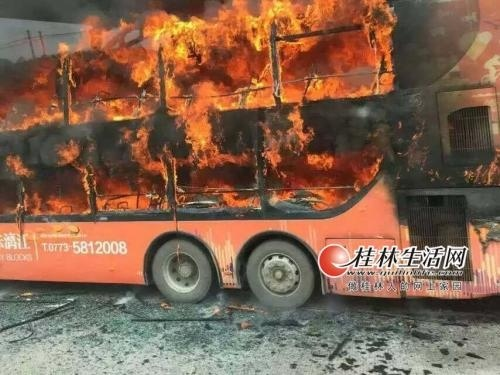fire: (22, 0, 403, 212)
